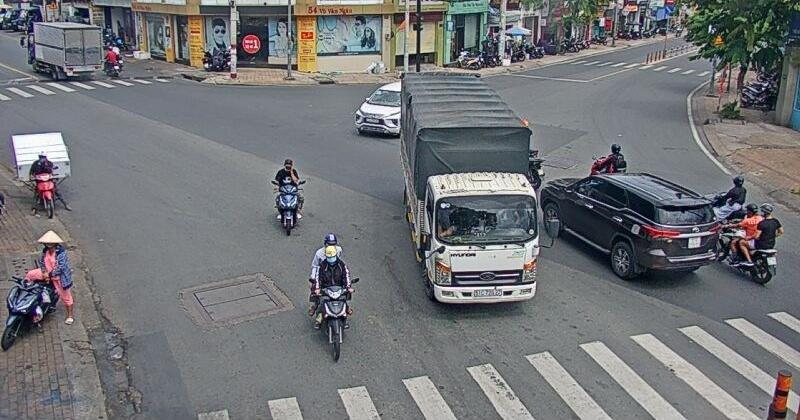xe hoi: (542, 175, 717, 277), (354, 81, 401, 136)
xe may: (307, 234, 359, 361), (716, 202, 777, 284), (270, 159, 306, 236), (28, 150, 59, 219)
xe tai: (407, 73, 536, 306)
